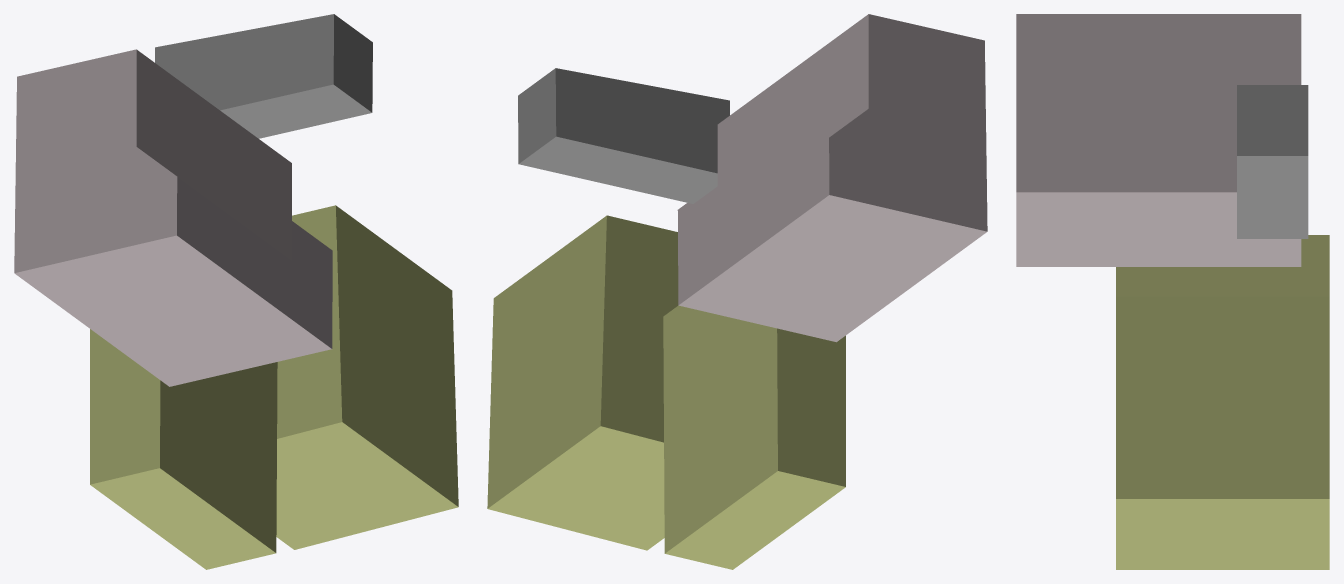
The picture shows the model from 3 angles, left to right: view 1: azimuth 30°, elevation 25°; view 2: azimuth 150°, elevation 25°; view 3: azimuth 270°, elevation 25°; orthographic projection. The views are drawn at different scales.
Parts seen in each view (by area): view 1: 0_1_0_2_0_0_1_3_2_2; view 2: 0_1_0_2_0_0_1_3_2_2; view 3: 0_1_0_2_0_0_1_3_2_2.
Part boxes in pixels (x1,y1,x2,y2): 0_1_0_2_0_0_1_3_2_2: [14, 14, 458, 569]; 0_1_0_2_0_0_1_3_2_2: [487, 14, 987, 569]; 0_1_0_2_0_0_1_3_2_2: [1016, 14, 1329, 569].
Size of the model in its own units: 15.33 by 18.87 by 13.2.
